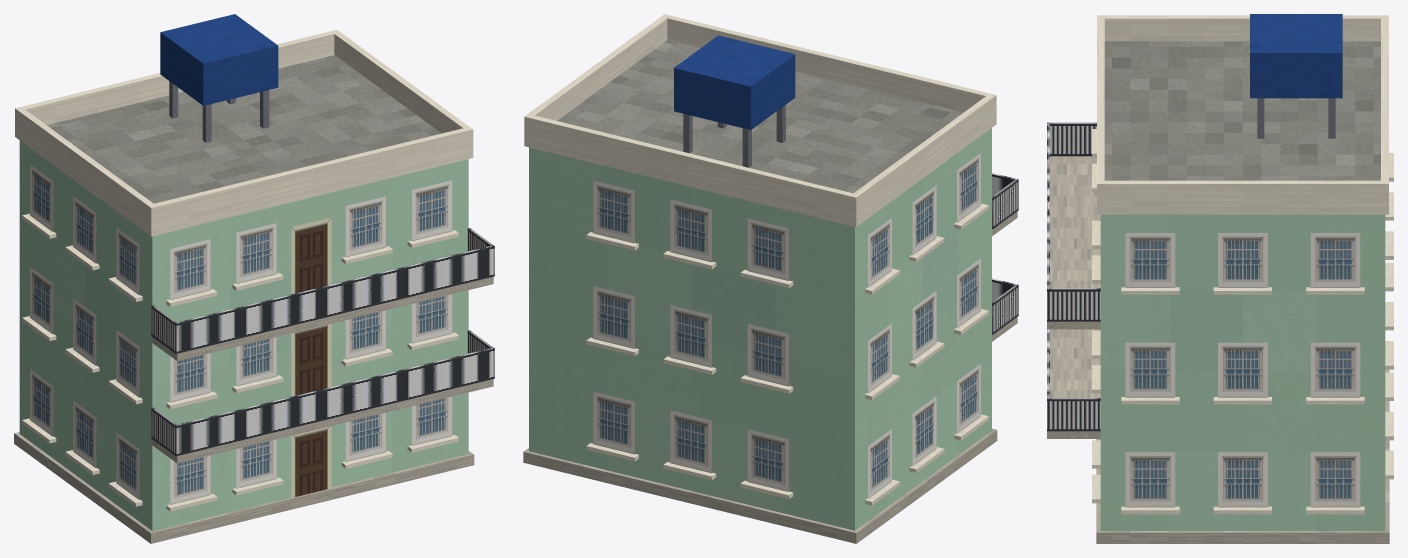
The model's file is flats-mint.glb.
3 renders of one model, left to right at view 1: azimuth 30°, elevation 25°; view 2: azimuth 150°, elevation 25°; view 3: azimuth 270°, elevation 25°, orthographic. The views are drawn at different scales.
Parts seen in each view (by area): view 1: flats-mint; view 2: flats-mint; view 3: flats-mint.
Part boxes in pixels (box(x1,y1,x2,y2)): flats-mint: box(14, 14, 494, 543); flats-mint: box(523, 14, 1018, 543); flats-mint: box(1047, 14, 1393, 543).
Size of the model in its own units: 11.48 by 13.2 by 9.74.
Materials: 1 (1 with a texture image).
